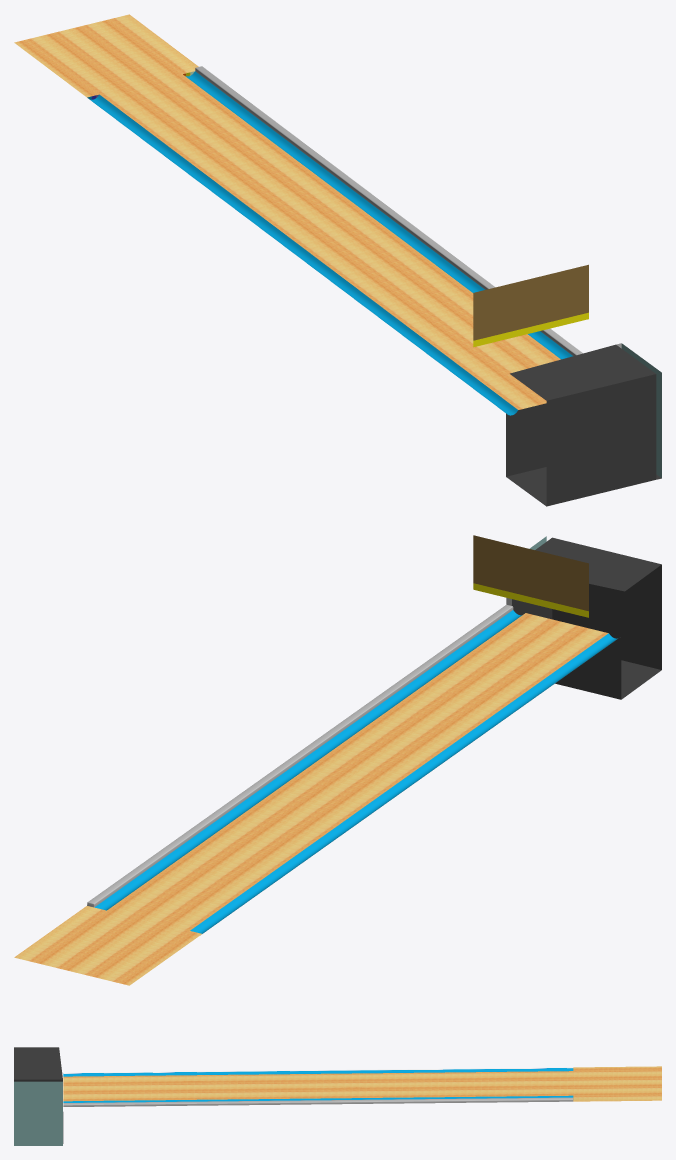
Rendered from Bouling.fbx.
3 views of the same model, one above another, from view 1: azimuth 30°, elevation 25°; view 2: azimuth 150°, elevation 25°; view 3: azimuth 270°, elevation 25° (orthographic). The views are drawn at different scales.
Visible parts, largest first — view 1: Plane; view 2: Plane; view 3: Plane.
Part boxes in pixels (x1,y1,x2,y2): Plane: (14, 14, 661, 506); Plane: (14, 535, 661, 985); Plane: (14, 1047, 661, 1145).
Size of the model in its own units: 670 by 889 by 5355.
